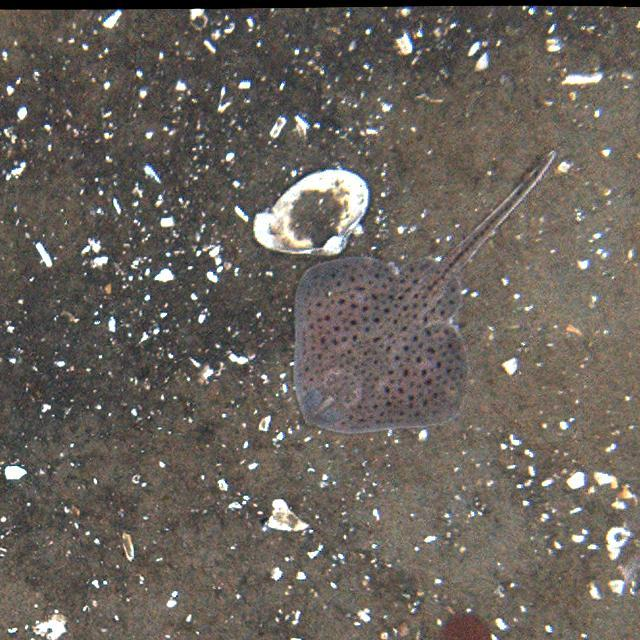skate: (253, 147, 583, 436)
